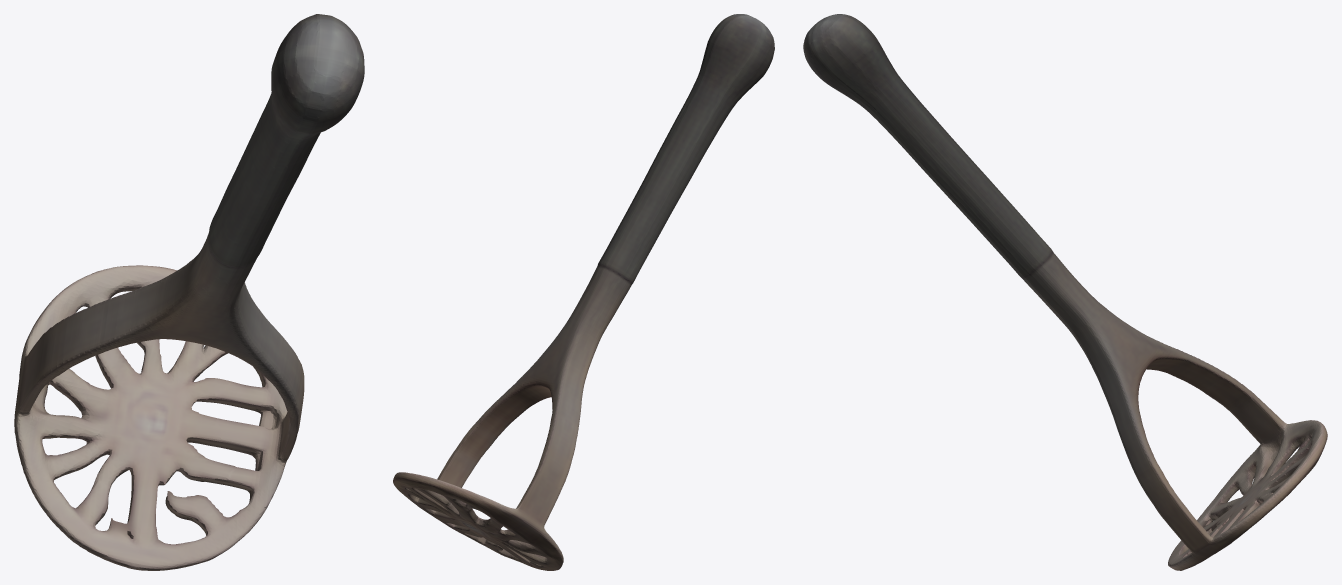
File: frame_0015_source_000015_object.glb
3 views of the same model, side by side, from view 1: azimuth 30°, elevation 25°; view 2: azimuth 150°, elevation 25°; view 3: azimuth 270°, elevation 25° (orthographic). The views are drawn at different scales.
Parts seen in each view (by area): view 1: world; view 2: world; view 3: world.
Boxes of the visible parts, <box> form: world: <box>14,14,364,570</box>; world: <box>393,14,774,570</box>; world: <box>803,14,1327,570</box>.
Size of the model in its own units: 0.0909 by 0.2157 by 0.2017.
